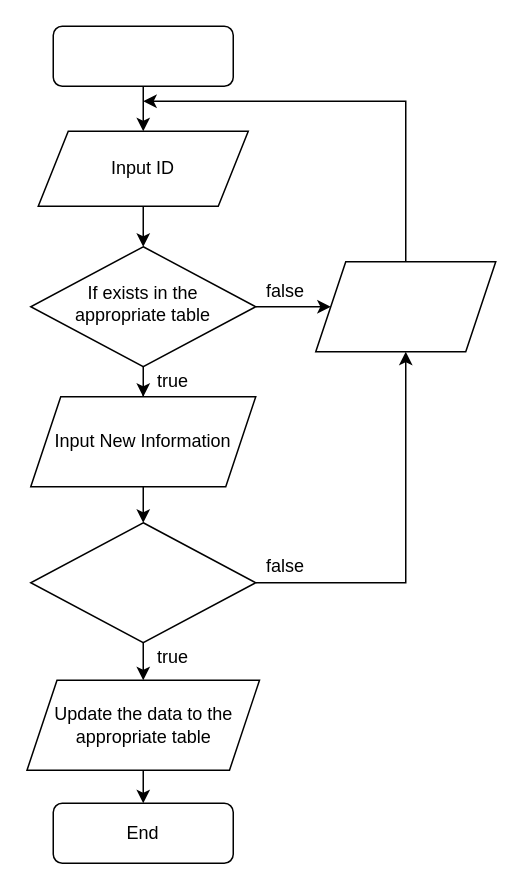
Image size: 522x890. Some labels were removed from this diagram. Each missing label, with the centre of its shape:
"Display error message" belongs at pixel 405 306.
"Is valid?" belongs at pixel 142 582.
"Start" belongs at pixel 142 55.
